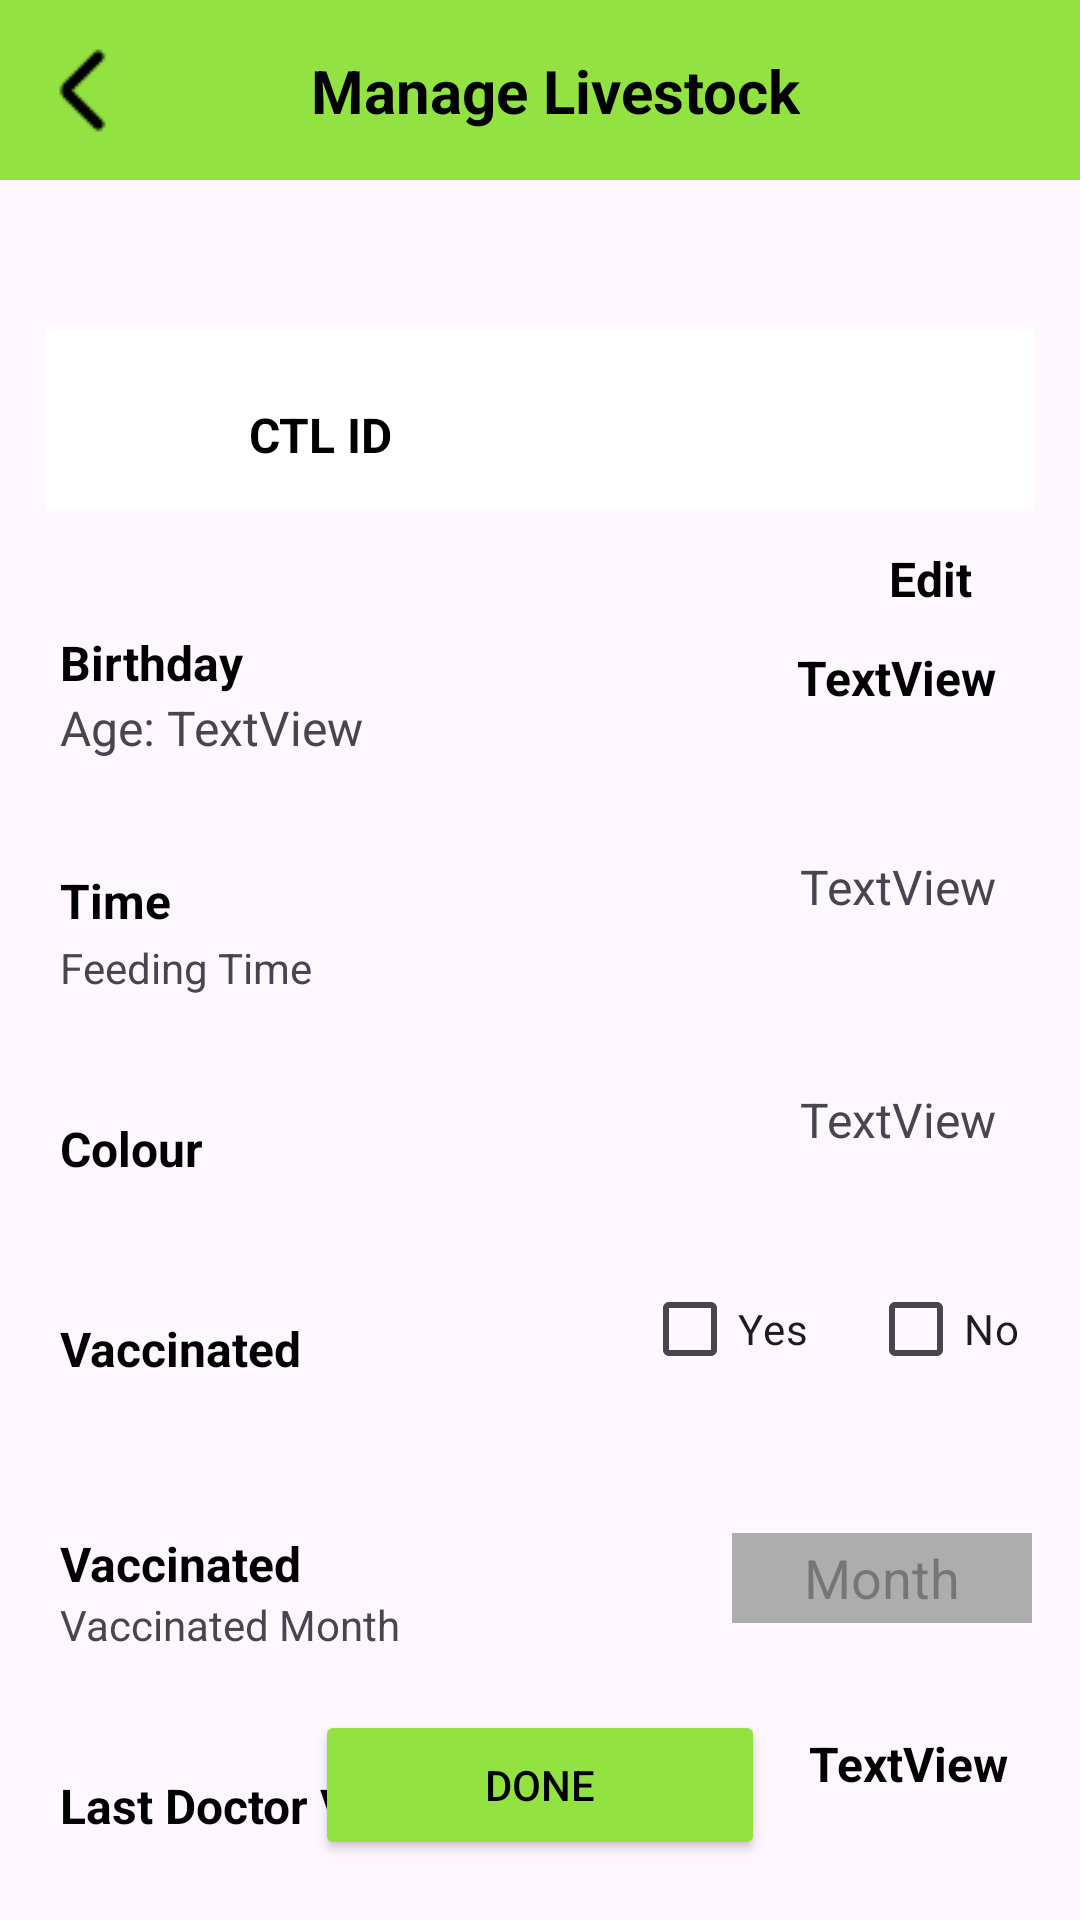

Icon bounding boxes for this 1080px×1920px phone screenshot, format (x1, y1, x2, y2):
back arrow: (59, 49, 106, 132)
